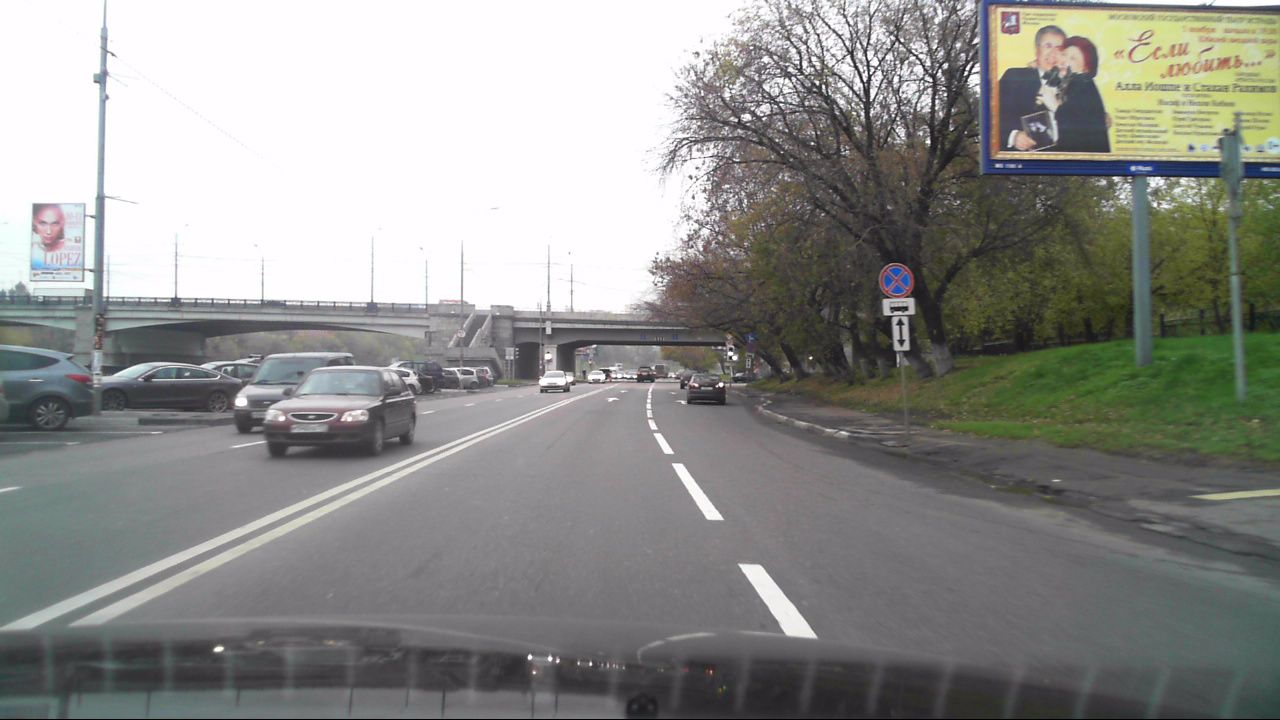No Parking: (878, 262, 913, 296)
